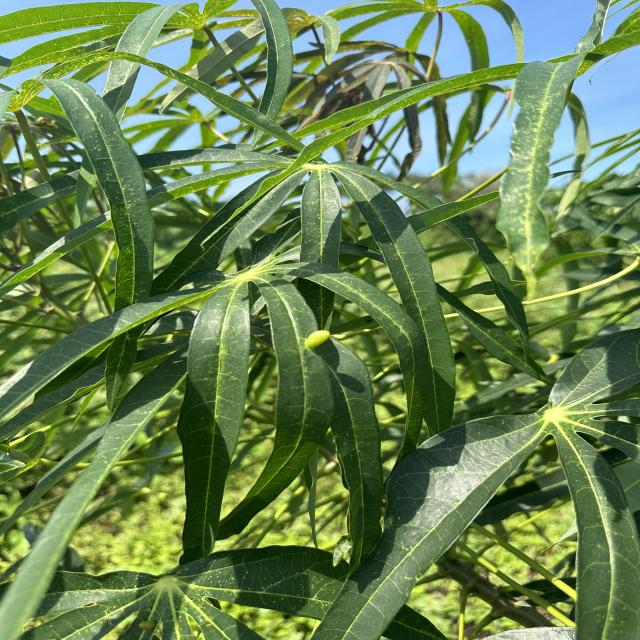Mosca: (300, 317, 340, 358), (182, 618, 229, 640), (130, 612, 165, 634)
